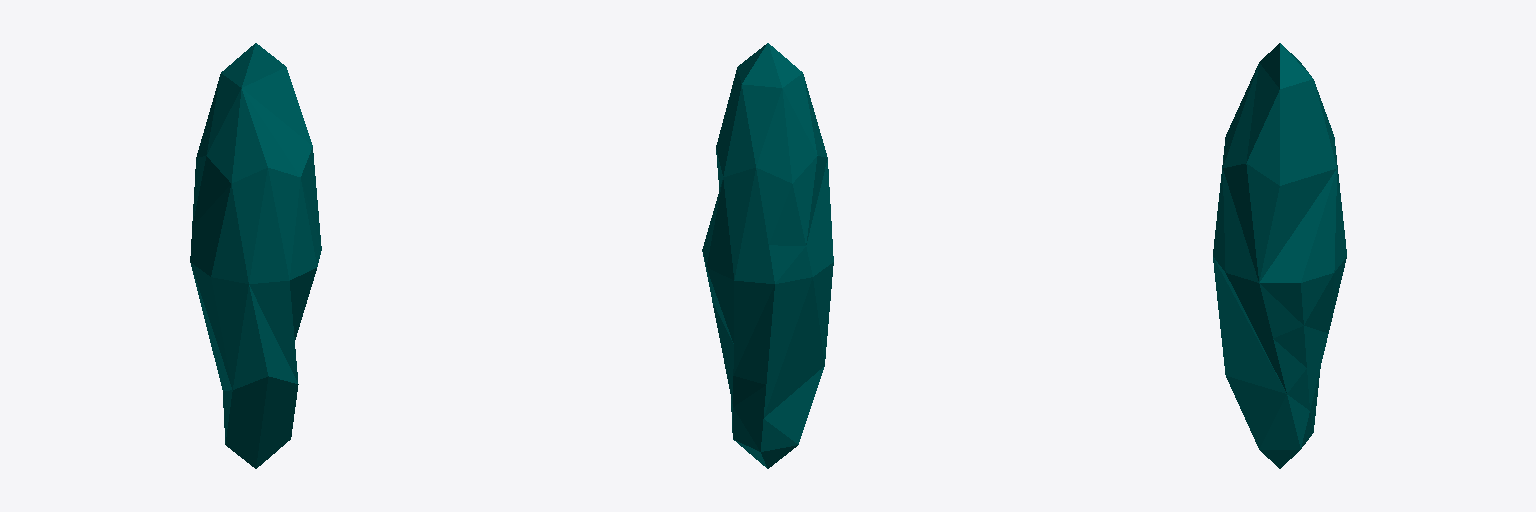
Rendered from blockplacer.obj.
3 views of the same model, side by side, from view 1: azimuth 30°, elevation 25°; view 2: azimuth 150°, elevation 25°; view 3: azimuth 270°, elevation 25° (orthographic).
Visible parts, largest first — view 1: Icosphere; view 2: Icosphere; view 3: Icosphere.
Boxes of the visible parts, box(x1,y1,x2,y2) form: Icosphere: box(190, 43, 321, 468); Icosphere: box(702, 43, 833, 468); Icosphere: box(1213, 43, 1346, 468).
Bounding box in the file's own units: 0.1902 × 0.7 × 0.2.